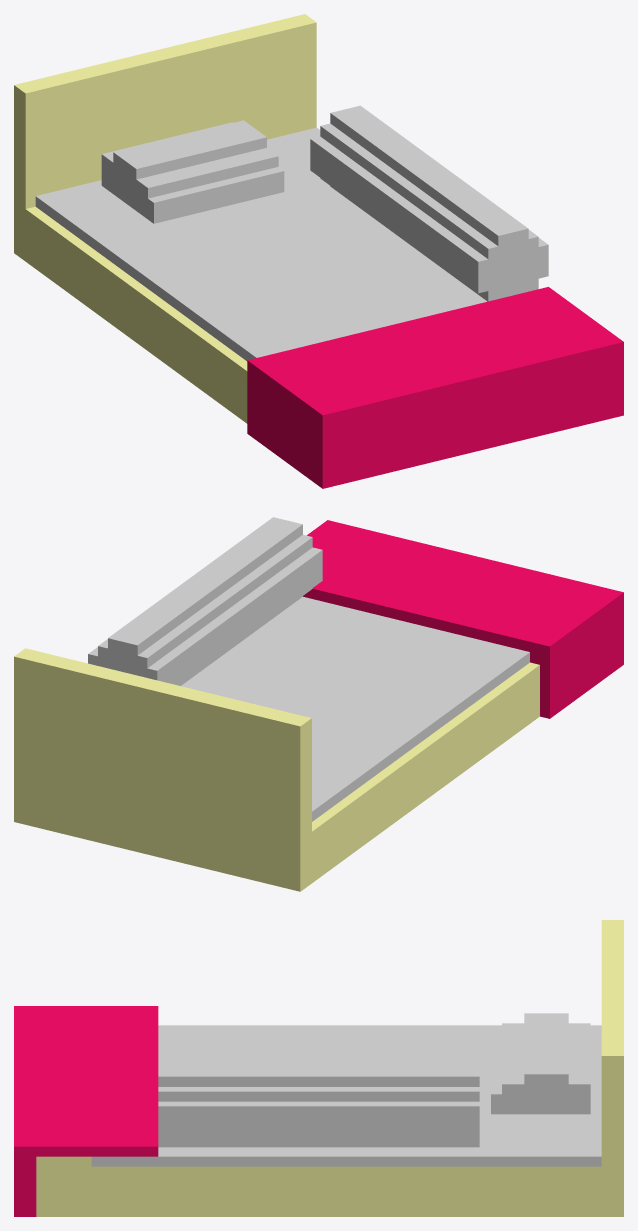
The model's file is Bedroom.obj.
The picture shows the model from 3 angles, top to bottom: view 1: azimuth 30°, elevation 25°; view 2: azimuth 150°, elevation 25°; view 3: azimuth 270°, elevation 25°; orthographic projection. The views are drawn at different scales.
Size of the model in its own units: 3 by 1.6 by 5.5.
1 material, 1 textured.
